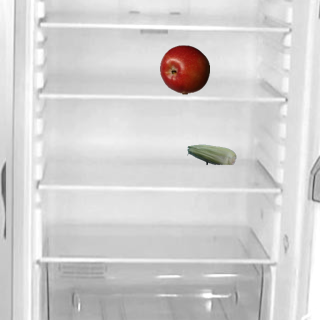Apple Braeburn: (159, 44, 209, 94)
Corn Husk: (186, 129, 236, 179)
